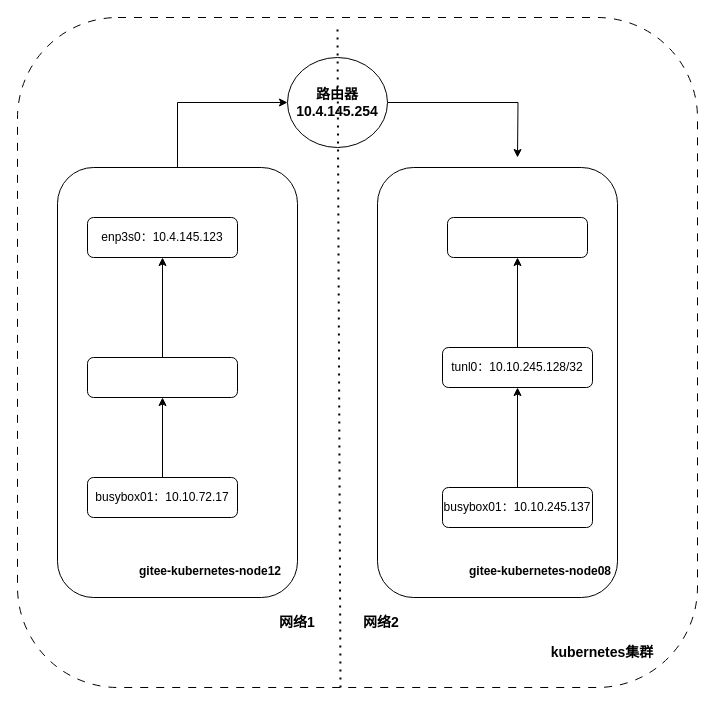
This 715x707 diagram has some shape labels left out. Each missing label, with the centre of its shape:
"enp3s0：10.4.145.25" belongs at [517,237].
"tunl0：10.10.72.0/32" belongs at [162,377].
